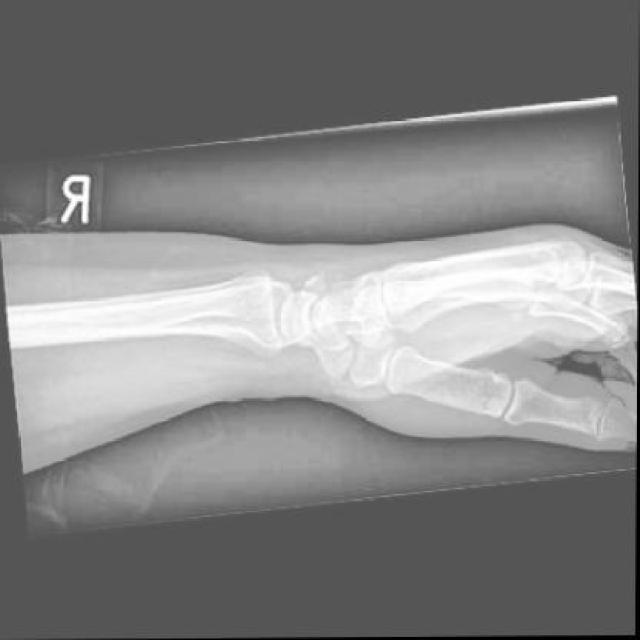Fracture: (297, 274, 328, 308)
